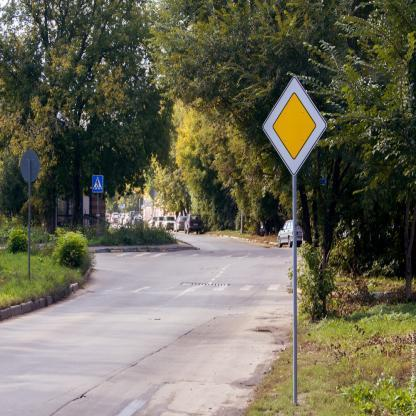road_sign: (263, 77, 326, 174), (92, 176, 104, 193)
